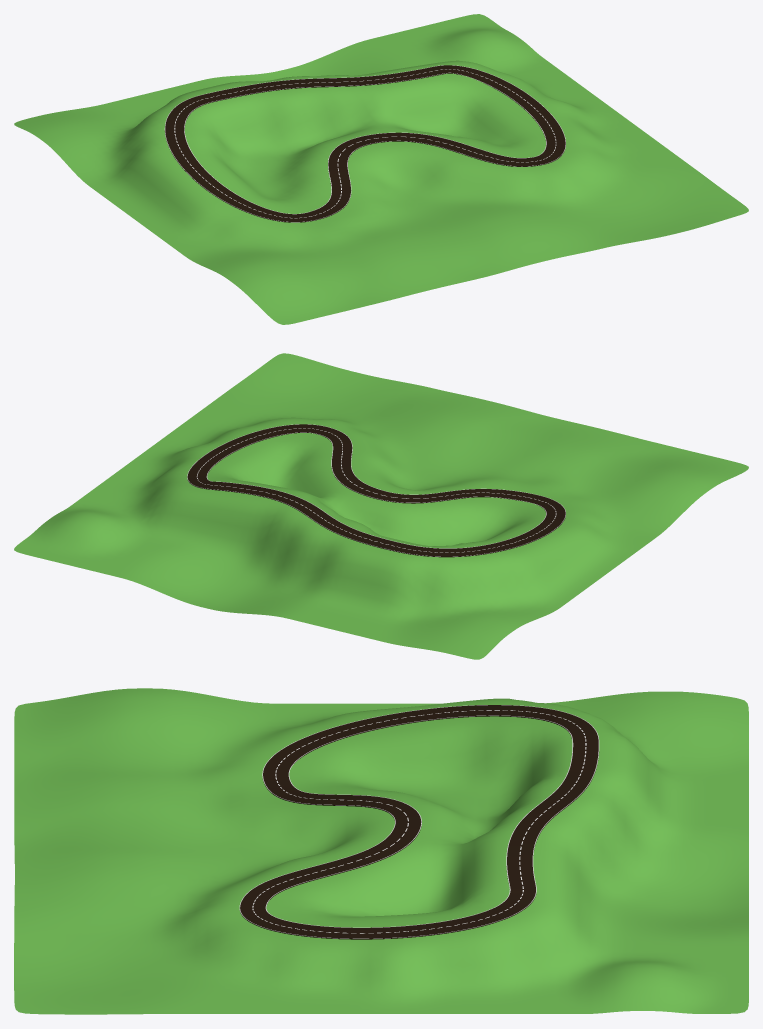
File: SimpleMap.fbx
3 views of the same model, one above another, from view 1: azimuth 30°, elevation 25°; view 2: azimuth 150°, elevation 25°; view 3: azimuth 270°, elevation 25° (orthographic). The views are drawn at different scales.
Parts seen in each view (by area): view 1: Ground, Road; view 2: Ground, Road; view 3: Ground, Road.
Part boxes in pixels (x1,y1,x2,y2): Ground: (14, 14, 748, 324); Road: (164, 65, 565, 222); Ground: (14, 353, 748, 659); Road: (187, 424, 565, 557); Ground: (14, 688, 748, 1014); Road: (239, 705, 599, 939).
Bounding box in the file's own units: 41000 × 4377 × 40849.
